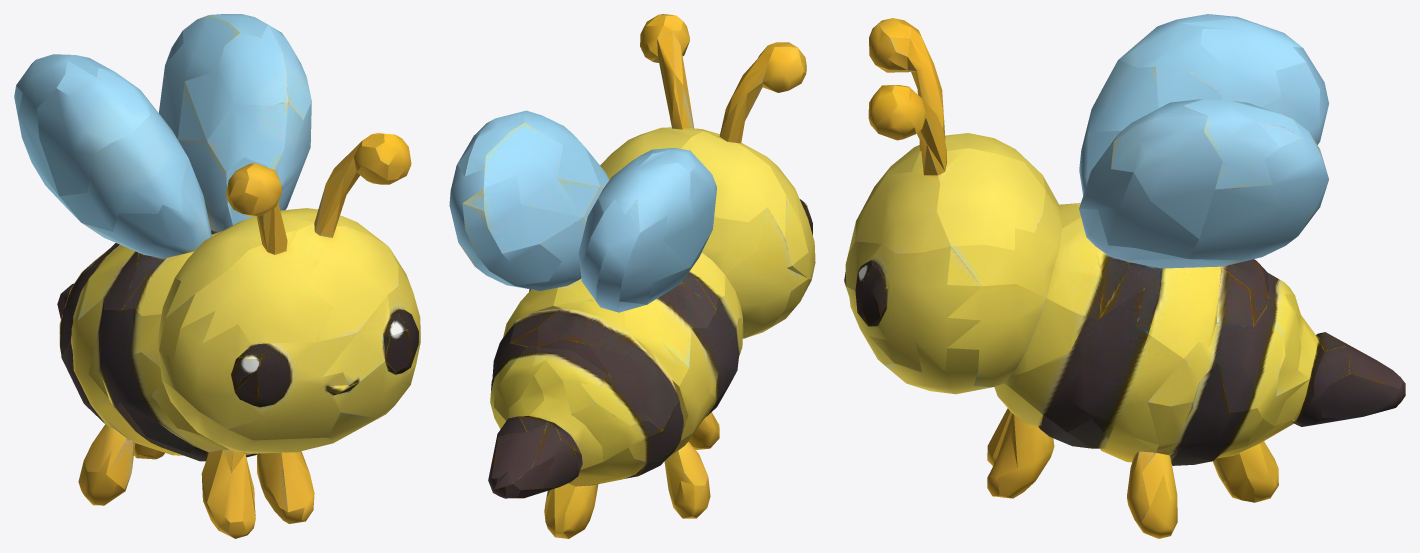
Rendered from bee.glb.
3 renders of one model, left to right at view 1: azimuth 30°, elevation 25°; view 2: azimuth 150°, elevation 25°; view 3: azimuth 270°, elevation 25°, orthographic. The views are drawn at different scales.
Bounding box in the file's own units: 0.9937 × 1.67 × 1.89.
1 material, 1 textured.
